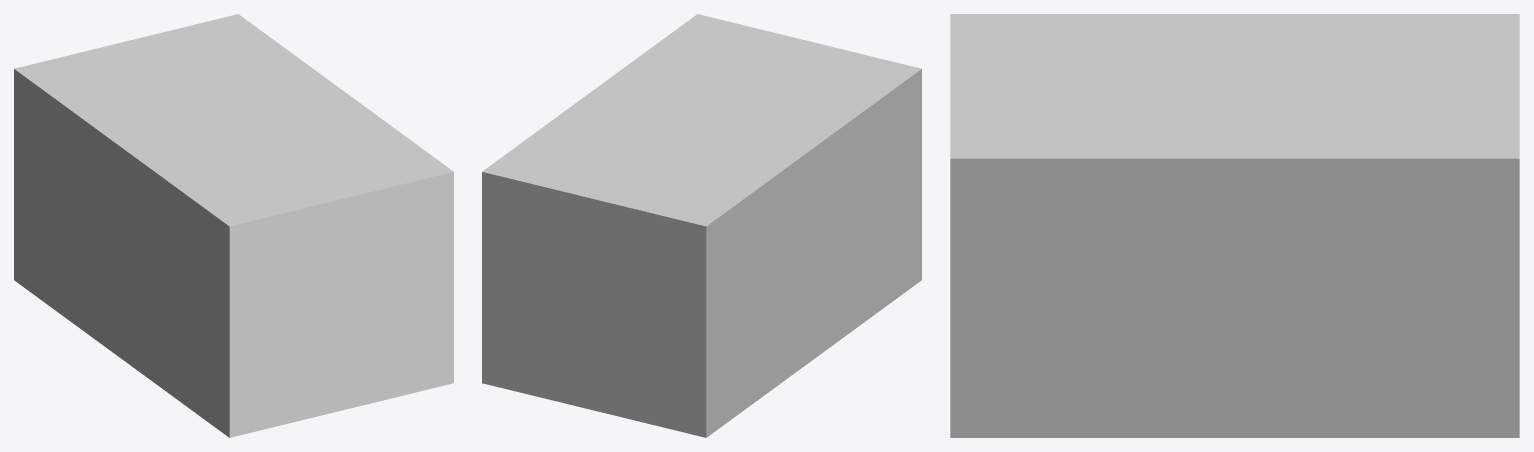
The model's file is block_tall.dae.
The picture shows the model from 3 angles, left to right: view 1: azimuth 30°, elevation 25°; view 2: azimuth 150°, elevation 25°; view 3: azimuth 270°, elevation 25°; orthographic projection. The views are drawn at different scales.
Parts seen in each view (by area): view 1: SketchUp (×2); view 2: SketchUp; view 3: SketchUp.
Part boxes in pixels (x1=…): SketchUp (×2): x1=14, y1=14, x2=453, y2=437; SketchUp: x1=482, y1=14, x2=921, y2=437; SketchUp: x1=950, y1=14, x2=1519, y2=437.
Size of the model in its own units: 138 by 230 by 124.
Materials: 10 (1 with a texture image).
